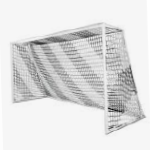goals: (10, 20, 147, 136)
